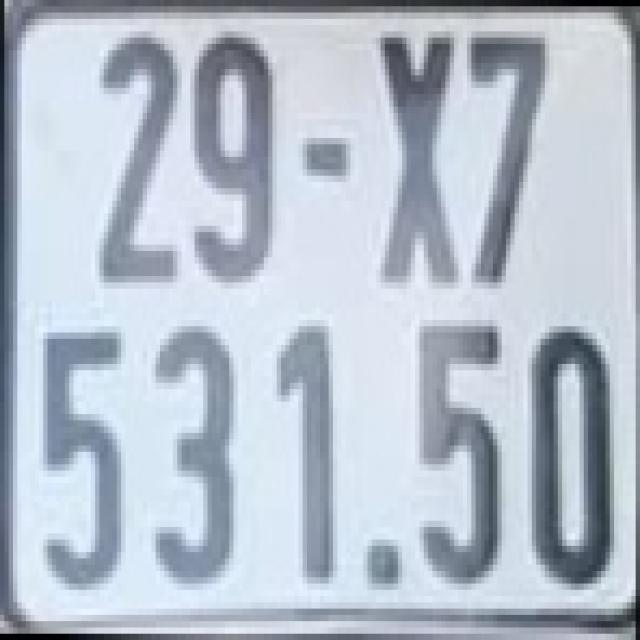0: (528, 321, 614, 584)
1: (272, 314, 346, 584)
2: (95, 31, 182, 282)
3: (147, 321, 242, 584)
5: (411, 314, 506, 584), (38, 320, 125, 590)
7: (467, 24, 549, 282)
9: (186, 24, 281, 282)
X: (376, 44, 458, 276)
